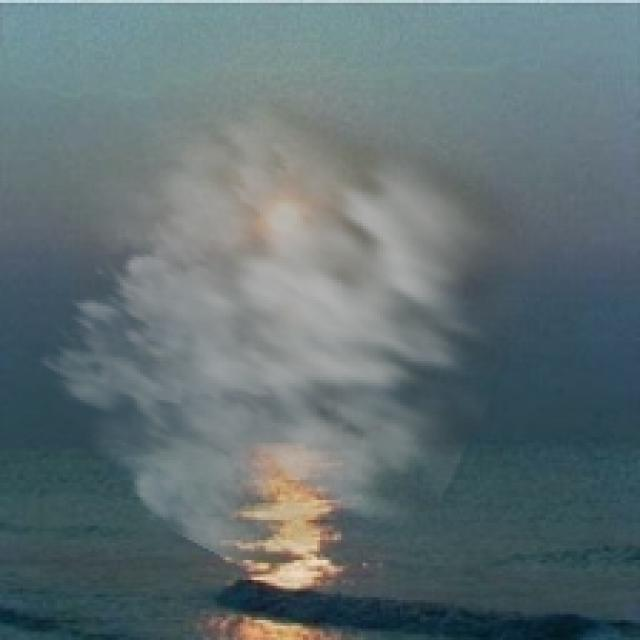smoke: (37, 80, 569, 594)
